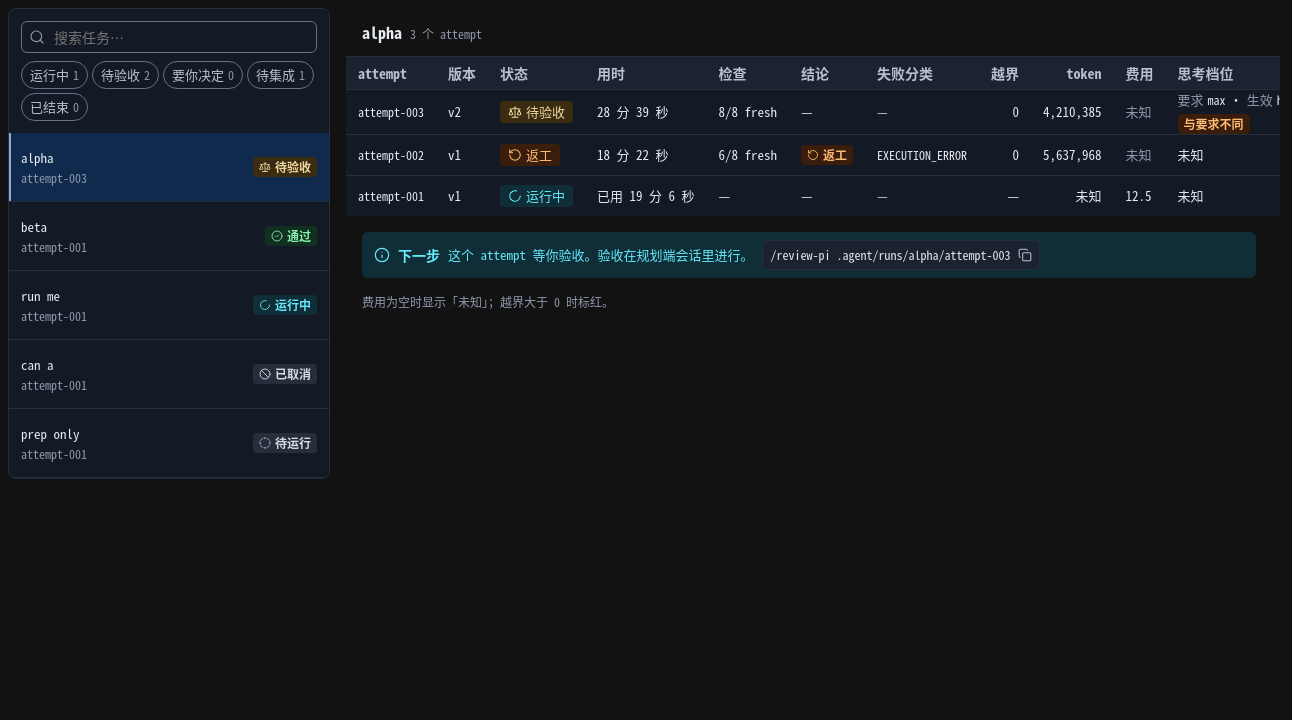
Test: 左栏 › 任务行：两行、右侧 StatusTag sm、roving tabindex、点击与方向键选中
Click the option "run me attempt-001 运行中". click: (40, 296)
box: [9,271,329,340]
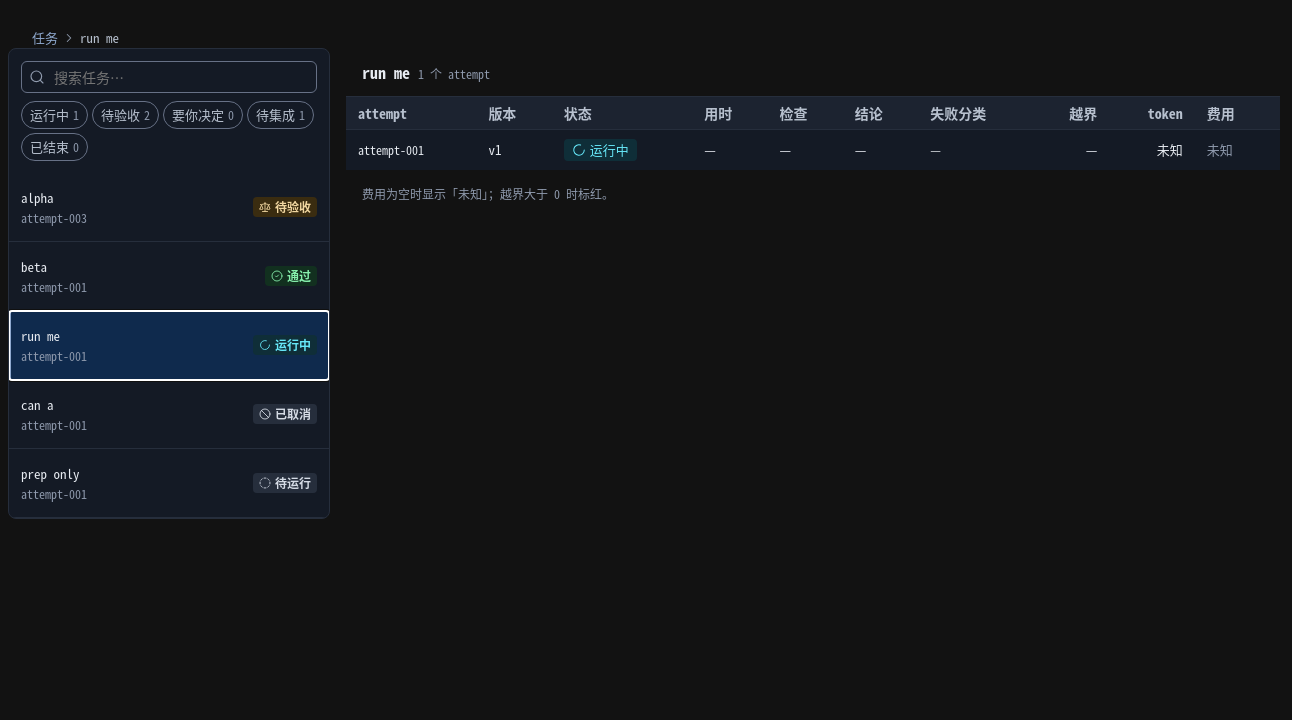
Check: the text "run me" next to "任务" is shown, box [80,28,119,47]
Press ArrowDown in the option "run me attempt-001 运行中", box [9,311,329,380]
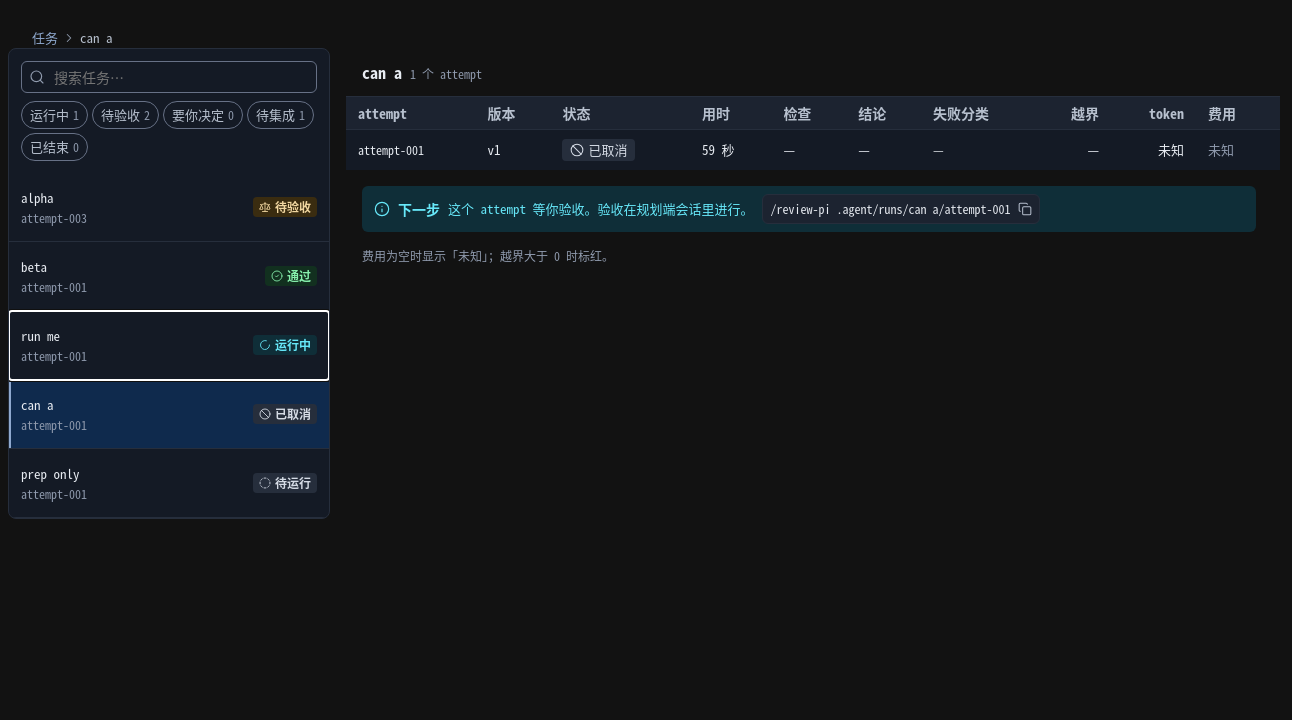
Check: the text "can a" next to "任务" is shown, box [80,28,112,47]
Press End in the option "can a attempt-001 已取消", box [9,380,329,449]
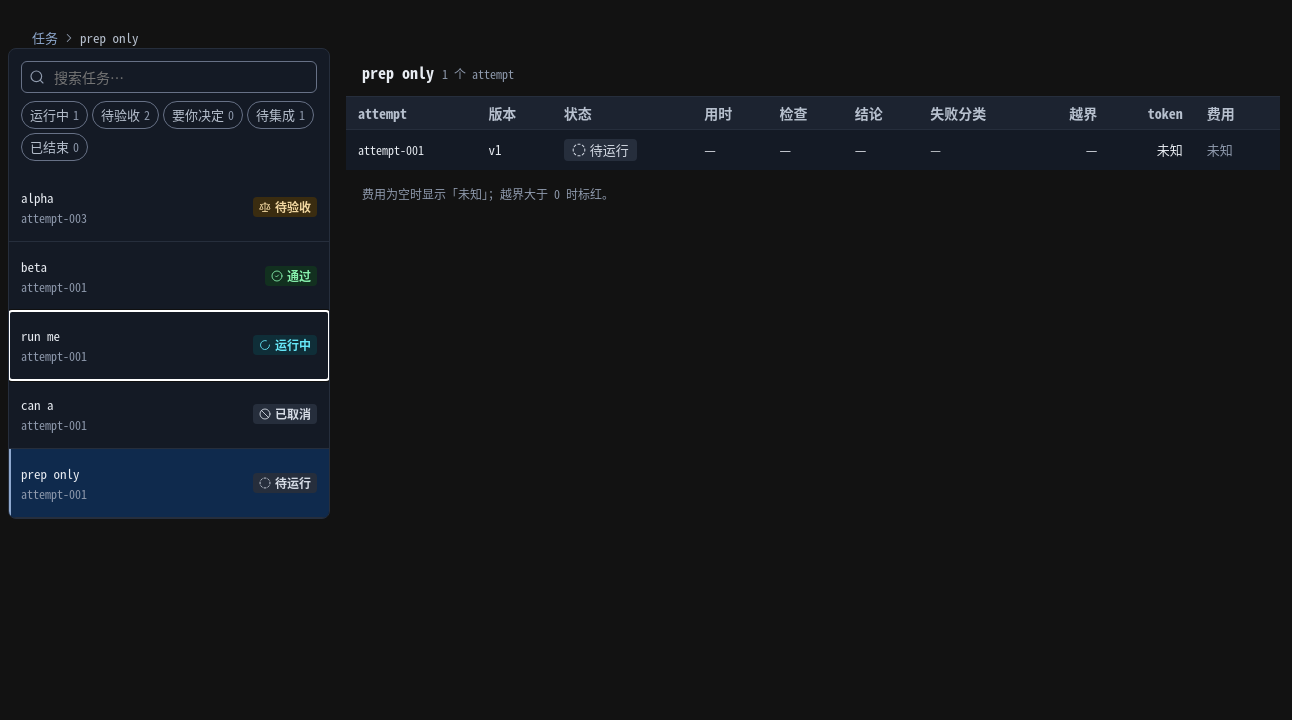
Check: the text "prep only" next to "任务" is shown, box [80,28,138,47]
Press Home in the option "prep only attempt-001 待运行", box [9,449,329,518]
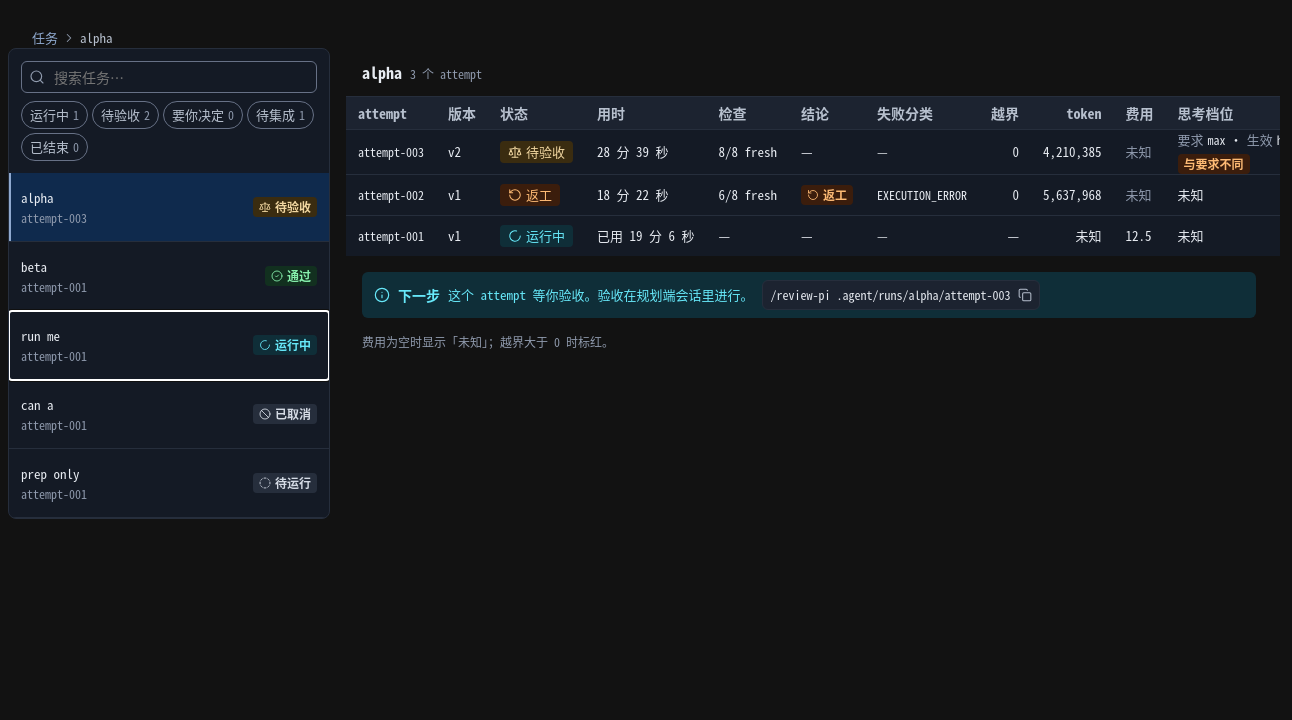
Check: the text "alpha" next to "任务" is shown, box [80,28,112,47]
